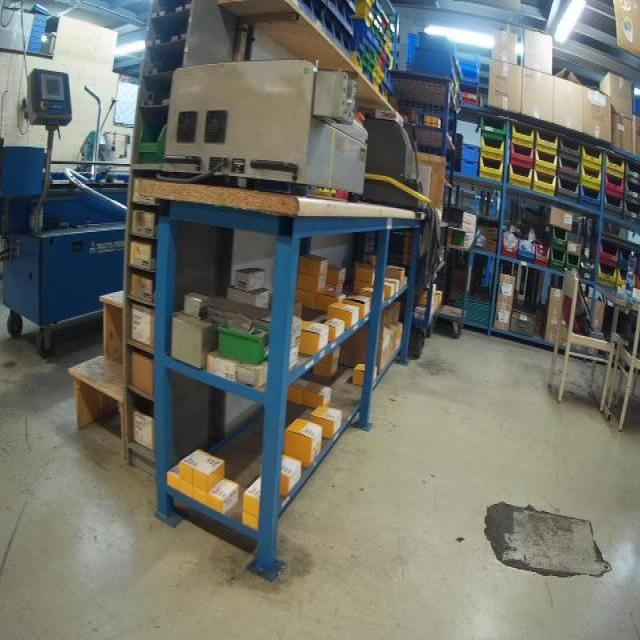small_load_carrier: (462, 145, 481, 166), (463, 164, 480, 176)
